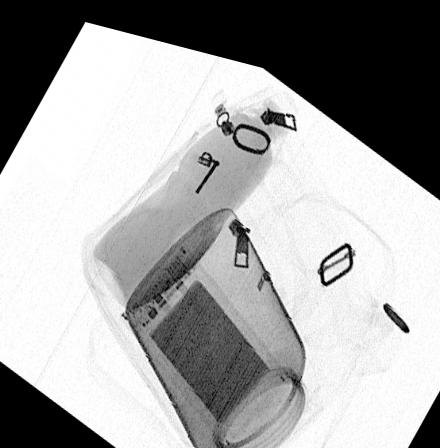Powerbank: (119, 232, 288, 438)
